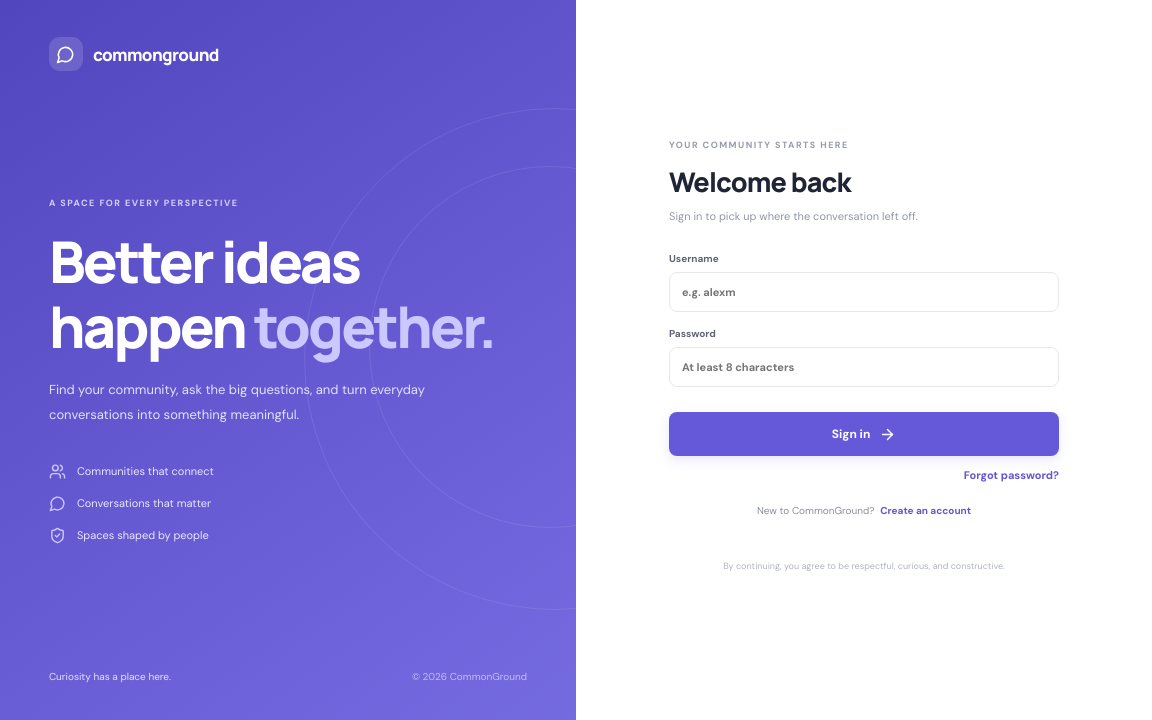
Test: AuthPage › shows the server error and stays on the page when login fails
Type "amani" into the field labelled "Username".
click(864, 292); type("amani")  # box [669, 272, 1059, 312]
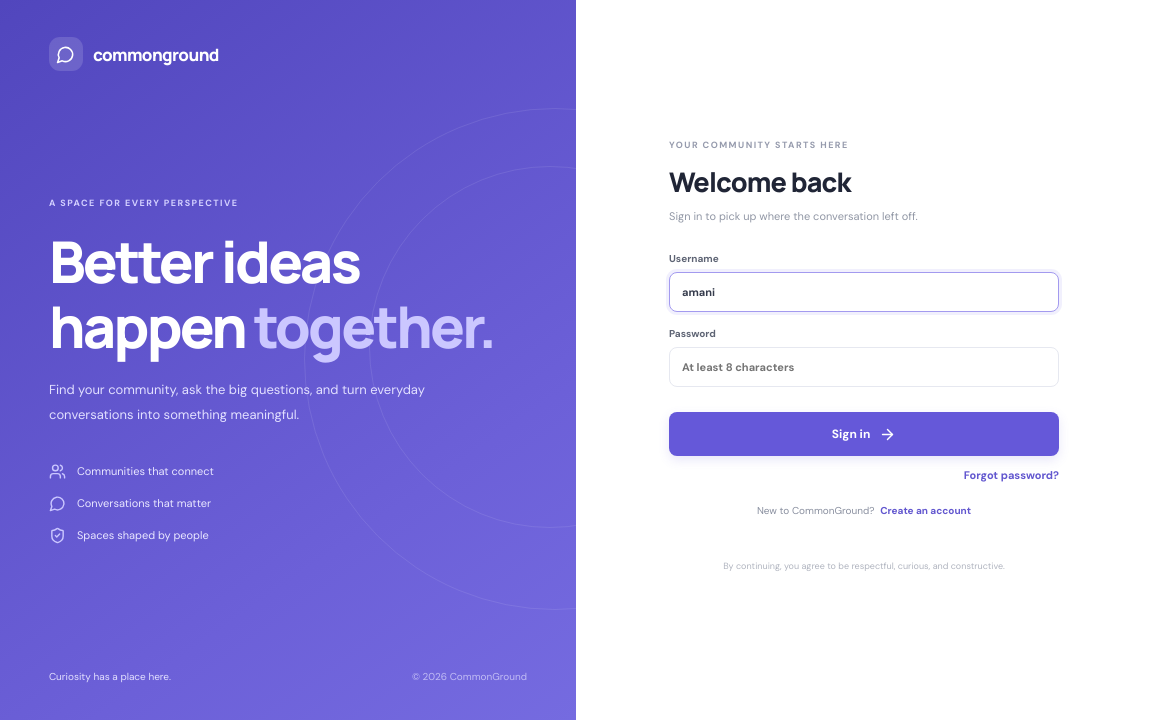
Type "wrong-password" into the password field labelled "Password".
click(864, 367); type("wrong-password")  # box [669, 347, 1059, 387]
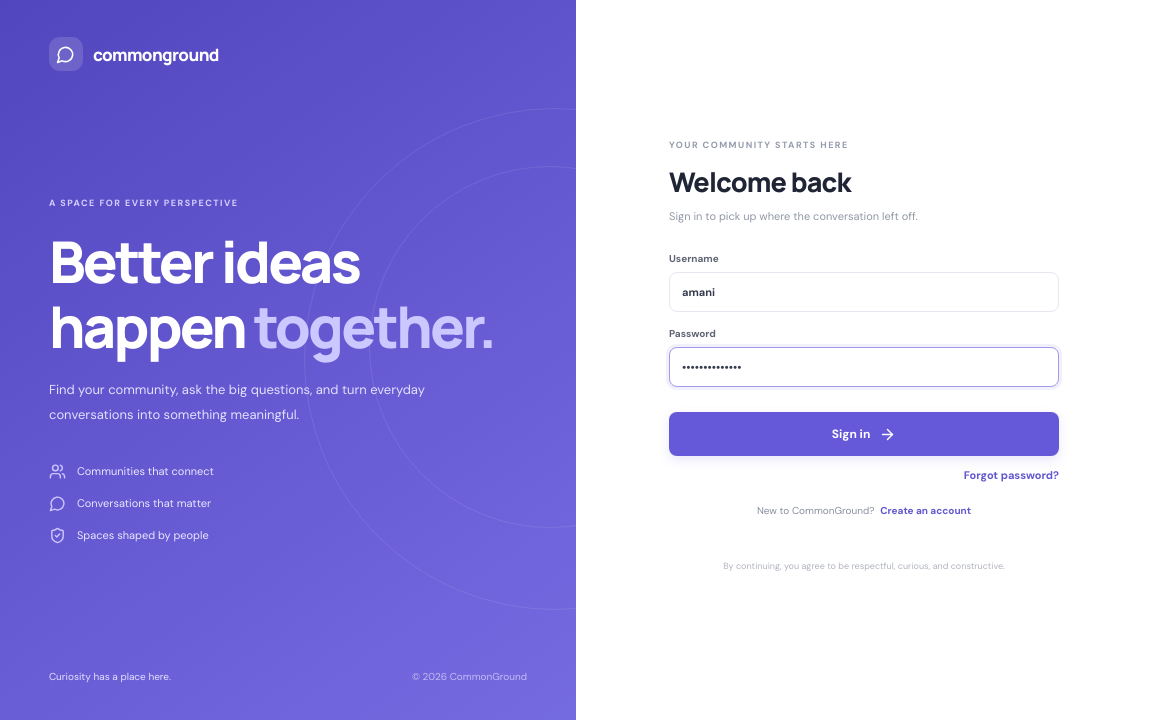
Click the button "Sign in".
click(864, 434)  # box [669, 412, 1059, 456]
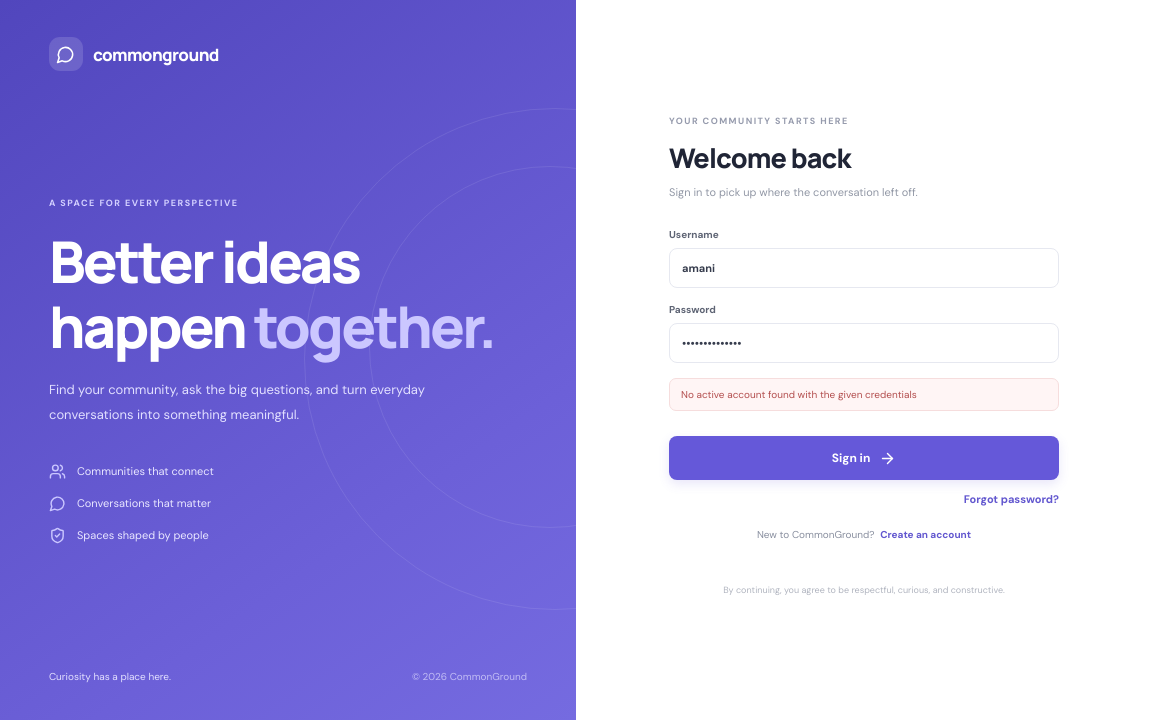
Expected: the button "Sign in" is enabled, [669, 436, 1059, 480]
Expected: the text "No active account found with the given credentials" is shown, [669, 378, 1059, 411]
